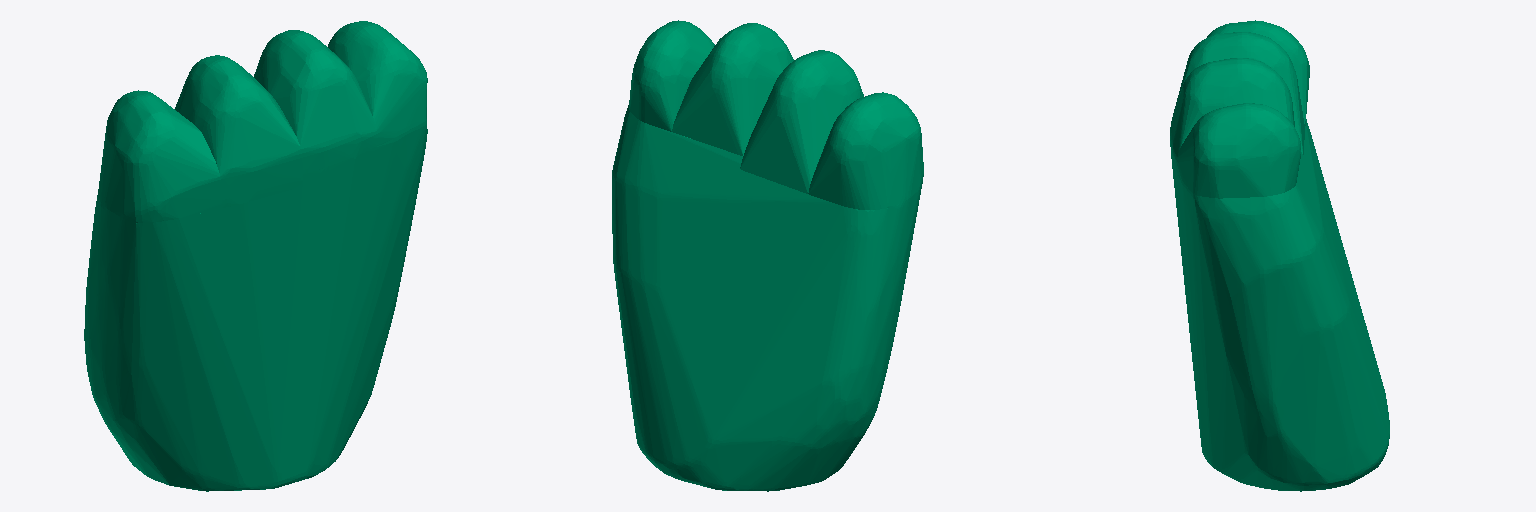
robot.urdf — ability_hand:
<robot name="ability_hand">
  <link name="base_link"/>
  <joint name="base_joint" type="fixed">
    <parent link="base_link"/>
    <child link="base"/>
    <origin xyz="0 0 0" rpy="0 0 0"/>
  </joint>
  <link name="base">
    <visual name="wrist_mesh">
      <origin rpy="0 0 0" xyz="0 0 0"/>
      <geometry>
        <mesh filename="meshes/visual/wristmesh.obj"/>
      </geometry>
    </visual>
    <collision>
      <origin xyz="0 0 0" rpy="0 0 0"/>
      <geometry>
        <mesh filename="meshes/collision/wristmesh_C.obj"/>
      </geometry>
    </collision>
    <inertial>  <!-- the mass and inertia here are NOT correct -->
      <mass value="0.200"/>
      <inertia ixx="978.26e-6" ixy="87.34e-6" ixz="322.99e-6" iyy="1244.78e-6" iyz="244.74e-6" izz="456.22e-6"/>
      <origin xyz="22.41911e-3 -0.15798201e-3 -0.01319866e-3" rpy="0 0 0"/>
    </inertial>
  </link>
  <joint name="wrist2thumb" type="fixed">
    <parent link="base"/>
    <child link="thumb_base"/>
    <origin xyz="24.0476665e-3 3.78124745e-3 32.32964923e-3" rpy="3.14148426 0.08848813 3.14036612"/>
  </joint>
  <link name="thumb_base">
    <inertial>
      <mass value="0.400"/>
      <inertia ixx="978.26e-6" ixy="87.34e-6" ixz="322.99e-6" iyy="1244.78e-6" iyz="244.74e-6" izz="456.22e-6"/>
      <origin xyz="22.41911e-3 -0.15798201e-3 -0.01319866e-3" rpy="0 0 0"/>
    </inertial>
    <visual name="palm_mesh">
      <origin rpy="0 0 0" xyz="0 0 0"/>
      <geometry>
        <mesh filename="meshes/visual/FB_palm_ref.obj"/>
      </geometry>
    </visual>
    <collision>                                  <!-- thumb_base -->
      <origin xyz="0 0 0" rpy="0 0 0"/>
      <geometry>
        <mesh filename="meshes/collision/FB_palm_ref.obj"/>
      </geometry>
    </collision>
  </link>
  <link name="index_L1">
    <inertial>
      <mass value="0.00635888"/>
      <inertia ixx="0.29766e-4" ixy="-0.06447133e-4" ixz="-0.00423315e-4" iyy="3.6947967e-4" iyz="0.00083028e-4" izz="3.8176336e-4"/>
      <origin xyz="22.41911e-3 -0.15798201e-3 -0.01319866e-3" rpy="0 0 0"/>
    </inertial>
    <visual name="index_mesh_1">
      <origin xyz="38.472723e-3 3.257695e-3 0.000000" rpy="0 0 0.084474"/>
      <geometry>
        <mesh filename="meshes/visual/idx-F1.obj"/>
      </geometry>
    </visual>
    <collision>                                  <!-- index_L1 -->
      <origin xyz="0.036 -0.00175 0" rpy="0 0 0"/>
      <geometry>
        <sphere radius="0.0085"/>
      </geometry>
    </collision>
    <collision>
      <origin xyz="0.019 -0.0045 0" rpy="0 0 0.0845"/>
      <geometry>
        <box size="0.028 0.012 0.016"/>
      </geometry>
    </collision>
    <collision>
      <origin xyz="-0.001 0 0.007" rpy="0 0 0.0845"/>
      <geometry>
        <box size="0.012 0.012 0.002"/>
      </geometry>
    </collision>
    <collision>
      <origin xyz="-0.001 0 -0.007" rpy="0 0 0.0845"/>
      <geometry>
        <box size="0.012 0.012 0.002"/>
      </geometry>
    </collision>
  </link>
  <link name="index_L2">
    <inertial>
      <mass value="0.00645"/>
      <inertia ixx="0.82671e-4" ixy="-1.08876e-4" ixz="-0.00037e-4" iyy="1.98028e-4" iyz="0.00081e-4" izz="2.64638e-4"/>
      <origin rpy="0 0 0" xyz="13.36818e-3 -8.75392e-3 -0.02886e-3"/>
    </inertial>
    <visual name="index_mesh_2">
      <origin rpy="0 0 0" xyz="9.1241e-3 0 0"/>
      <geometry>
        <mesh filename="meshes/visual/idx-F2.obj"/>
      </geometry>
    </visual>
    <collision>                            <!-- index_L2 -->
      <origin xyz="0 0 0" rpy="0 0 0"/>
      <geometry>
        <mesh filename="meshes/collision/idx-F2_C.obj"/>
      </geometry>
    </collision>
    <collision>
      <origin xyz="0.03 -0.016 0" rpy="0 0 0"/>
      <geometry>
        <sphere radius="0.007"/>
      </geometry>
    </collision>
  </link>
  <joint name="index_q1" type="revolute">
    <parent link="thumb_base"/>
    <child link="index_L1"/>
    <origin xyz="-9.49e-3 -13.04e-3 -62.95e-3" rpy="-1.982050 1.284473 -2.090591"/>
    <axis xyz="0 0 1"/>
    <limit lower="0" upper="2.0943951" effort="6.0" velocity="8.0677777442"/>    <!-- angles in rad, efforts in N-m, velocity in rad/s -->
    <dynamics damping="0.001" friction="0.001"/>  <!-- Friction coefficient is not from quantitative measurement -->
  </joint>
  <joint name="index_q2" type="revolute">
    <parent link="index_L1"/>
    <child link="index_L2"/>
    <origin xyz="38.472723e-3 3.257695e-3 0.000000e-3" rpy="0 0 0.084474"/>
    <axis xyz="0 0 1"/>
    <limit lower="0.0" upper="2.6586" effort="6.0" velocity="8.0677777442"/>    <!-- angles in rad, efforts in N-m, velocity in rad/s -->
    <dynamics damping="0.001" friction="0.001"/>  <!-- Friction coefficient is not from quantitative measurement -->
    <mimic joint="index_q1" multiplier="1.05851325" offset="0.72349796"/>
  </joint>
  <link name="index_anchor"/>
  <joint name="idx_anchor" type="fixed">
    <parent link="index_L2"/>
    <child link="index_anchor"/>
    <origin rpy="0 0 0" xyz="31.5541e-3  -10.44e-3 0.14e-3"/>
  </joint>
  <link name="middle_L1">
    <inertial>
      <mass value="0.00635888"/>
      <inertia ixx="0.29766e-4" ixy="-0.06447133e-4" ixz="-0.00423315e-4" iyy="3.6947967e-4" iyz="0.00083028e-4" izz="3.8176336e-4"/>
      <origin xyz="22.41911e-3 -0.15798201e-3 -0.01319866e-3" rpy="0 0 0"/>
    </inertial>
    <visual name="middle_mesh_1">
      <origin xyz="38.472723e-3 3.257695e-3 0.000000" rpy="0 0 0.084474"/>
      <geometry>
        <mesh filename="meshes/visual/idx-F1.obj"/>
      </geometry>
    </visual>
    <collision>                                  <!-- middle_L1 -->
      <origin xyz="0.036 -0.00175 0" rpy="0 0 0"/>
      <geometry>
        <sphere radius="0.0085"/>
      </geometry>
    </collision>
    <collision>
      <origin xyz="0.019 -0.0045 0" rpy="0 0 0.0845"/>
      <geometry>
        <box size="0.028 0.012 0.016"/>
      </geometry>
    </collision>
    <collision>
      <origin xyz="0.018 0.006 0" rpy="0 0 0.0845"/>
      <geometry>
        <box size="0.02 0.01 0.016"/>
      </geometry>
    </collision>
    <collision>
      <origin xyz="-0.001 0 0.007" rpy="0 0 0.0845"/>
      <geometry>
        <box size="0.012 0.012 0.002"/>
      </geometry>
    </collision>
    <collision>
      <origin xyz="-0.001 0 -0.007" rpy="0 0 0.0845"/>
      <geometry>
        <box size="0.012 0.012 0.002"/>
      </geometry>
    </collision>
  </link>
  <link name="middle_L2">
    <inertial>
      <mass value="0.00645"/>
      <inertia ixx="0.82671e-4" ixy="-1.08876e-4" ixz="-0.00037e-4" iyy="1.98028e-4" iyz="0.00081e-4" izz="2.64638e-4"/>
      <origin rpy="0 0 0" xyz="13.36818e-3 -8.75392e-3 -0.02886e-3"/>
    </inertial>
    <visual name="middle_mesh_2">
      <origin rpy="0 0 0" xyz="9.1241e-3 0 0"/>
      <geometry>
        <mesh filename="meshes/visual/idx-F2.obj"/>
      </geometry>
    </visual>
    <collision>                            <!-- middle_L2 -->
      <origin xyz="0 0 0" rpy="0 0 0"/>
      <geometry>
        <mesh filename="meshes/collision/idx-F2_C.obj"/>
      </geometry>
    </collision>
    <collision>
      <origin xyz="0.03 -0.016 0" rpy="0 0 0"/>
      <geometry>
        <sphere radius="0.007"/>
      </geometry>
    </collision>
  </link>
  <joint name="middle_q1" type="revolute">
    <parent link="thumb_base"/>
    <child link="middle_L1"/>
    <origin xyz="9.653191e-3 -15.310271e-3 -67.853949e-3" rpy="-1.860531 1.308458 -1.896217"/>
    <limit lower="0" upper="2.0943951" effort="6.0" velocity="8.0677777442"/>    <!-- angles in rad, efforts in N-m, velocity in rad/s -->
    <dynamics damping="0.001" friction="0.001"/>  <!-- Friction coefficient is not from quantitative measurement -->
    <axis xyz="0 0 1"/>
  </joint>
  <joint name="middle_q2" type="revolute">
    <parent link="middle_L1"/>
    <child link="middle_L2"/>
    <origin xyz="38.472723e-3 3.257695e-3 0.000000" rpy="0 0 0.084474"/>
    <axis xyz="0 0 1"/>
    <limit lower="0.0" upper="2.6586" effort="6.0" velocity="8.0677777442"/>    <!-- angles in rad, efforts in N-m, velocity in rad/s -->
    <dynamics damping="0.001" friction="0.001"/>  <!-- Friction coefficient is not from quantitative measurement -->
    <mimic joint="middle_q1" multiplier="1.05851325" offset="0.72349796"/>
  </joint>
  <link name="middle_anchor"/>
  <joint name="mid_anchor" type="fixed">
    <parent link="middle_L2"/>
    <child link="middle_anchor"/>
    <origin rpy="0 0 0" xyz="31.5541e-3  -10.44e-3 0.14e-3"/>
  </joint>
  <link name="ring_L1">
    <inertial>
      <mass value="0.00635888"/>
      <inertia ixx="0.29766e-4" ixy="-0.06447133e-4" ixz="-0.00423315e-4" iyy="3.6947967e-4" iyz="0.00083028e-4" izz="3.8176336e-4"/>
      <origin xyz="22.41911e-3 -0.15798201e-3 -0.01319866e-3" rpy="0 0 0"/>
    </inertial>
    <visual name="ring_mesh_1">
      <origin xyz="38.472723e-3 3.257695e-3 0.000000" rpy="0 0 0.084474"/>
      <geometry>
        <mesh filename="meshes/visual/idx-F1.obj"/>
      </geometry>
    </visual>
    <collision>                                  <!-- ring_L1 -->
      <origin xyz="0.036 -0.00175 0" rpy="0 0 0"/>
      <geometry>
        <sphere radius="0.0085"/>
      </geometry>
    </collision>
    <collision>
      <origin xyz="0.019 -0.0045 0" rpy="0 0 0.0845"/>
      <geometry>
        <box size="0.028 0.012 0.016"/>
      </geometry>
    </collision>
    <collision>
      <origin xyz="0.018 0.006 0" rpy="0 0 0.0845"/>
      <geometry>
        <box size="0.02 0.01 0.016"/>
      </geometry>
    </collision>
    <collision>
      <origin xyz="-0.001 0 0.007" rpy="0 0 0.0845"/>
      <geometry>
        <box size="0.012 0.012 0.002"/>
      </geometry>
    </collision>
    <collision>
      <origin xyz="-0.001 0 -0.007" rpy="0 0 0.0845"/>
      <geometry>
        <box size="0.012 0.012 0.002"/>
      </geometry>
    </collision>
  </link>
  <link name="ring_L2">
    <inertial>
      <mass value="0.00645"/>
      <inertia ixx="0.82671e-4" ixy="-1.08876e-4" ixz="-0.00037e-4" iyy="1.98028e-4" iyz="0.00081e-4" izz="2.64638e-4"/>
      <origin rpy="0 0 0" xyz="13.36818e-3 -8.75392e-3 -0.02886e-3"/>
    </inertial>
    <visual name="ring_mesh_2">
      <origin rpy="0 0 0" xyz="9.1241e-3 0 0"/>
      <geometry>
        <mesh filename="meshes/visual/idx-F2.obj"/>
      </geometry>
    </visual>
    <collision>                            <!-- ring_L2 -->
      <origin xyz="0 0 0" rpy="0 0 0"/>
      <geometry>
        <mesh filename="meshes/collision/idx-F2_C.obj"/>
      </geometry>
    </collision>
    <collision>
      <origin xyz="0.03 -0.016 0" rpy="0 0 0"/>
      <geometry>
        <sphere radius="0.007"/>
      </geometry>
    </collision>
  </link>
  <joint name="ring_q1" type="revolute">
    <parent link="thumb_base"/>
    <child link="ring_L1"/>
    <origin xyz="29.954260e-3 -14.212492e-3 -67.286105e-3" rpy="-1.716598 1.321452 -1.675862"/>
    <limit lower="0" upper="2.0943951" effort="6.0" velocity="8.0677777442"/>    <!-- angles in rad, efforts in N-m, velocity in rad/s -->
    <dynamics damping="0.001" friction="0.001"/>  <!-- Friction coefficient is not from quantitative measurement -->
    <axis xyz="0 0 1"/>
  </joint>
  <joint name="ring_q2" type="revolute">
    <parent link="ring_L1"/>
    <child link="ring_L2"/>
    <origin xyz="38.472723e-3 3.257695e-3 0.000000" rpy="0 0 0.084474"/>
    <axis xyz="0 0 1"/>
    <limit lower="0.0" upper="2.6586" effort="6.0" velocity="8.0677777442"/>    <!-- angles in rad, efforts in N-m, velocity in rad/s -->
    <dynamics damping="0.001" friction="0.001"/>  <!-- Friction coefficient is not from quantitative measurement -->
    <mimic joint="ring_q1" multiplier="1.05851325" offset="0.72349796"/>
  </joint>
  <link name="ring_anchor"/>
  <joint name="rng_anchor" type="fixed">
    <parent link="ring_L2"/>
    <child link="ring_anchor"/>
    <origin rpy="0 0 0" xyz="31.5541e-3  -10.44e-3 0.14e-3"/>
  </joint>
  <link name="pinky_L1">
    <inertial>
      <mass value="0.00635888"/>
      <inertia ixx="0.29766e-4" ixy="-0.06447133e-4" ixz="-0.00423315e-4" iyy="3.6947967e-4" iyz="0.00083028e-4" izz="3.8176336e-4"/>
      <origin xyz="22.41911e-3 -0.15798201e-3 -0.01319866e-3" rpy="0 0 0"/>
    </inertial>
    <visual name="pinky_mesh_1">
      <origin xyz="38.472723e-3 3.257695e-3 0.000000" rpy="0 0 0.084474"/>
      <geometry>
        <mesh filename="meshes/visual/idx-F1.obj"/>
      </geometry>
    </visual>
    <collision>                                  <!-- pinky_L1 -->
      <origin xyz="0.036 -0.00175 0" rpy="0 0 0"/>
      <geometry>
        <sphere radius="0.0085"/>
      </geometry>
    </collision>
    <collision>
      <origin xyz="0.019 -0.0045 0" rpy="0 0 0.0845"/>
      <geometry>
        <box size="0.028 0.012 0.016"/>
      </geometry>
    </collision>
    <collision>
      <origin xyz="0.018 0.006 0" rpy="0 0 0.0845"/>
      <geometry>
        <box size="0.02 0.01 0.016"/>
      </geometry>
    </collision>
    <collision>
      <origin xyz="-0.001 0 0.007" rpy="0 0 0.0845"/>
      <geometry>
        <box size="0.012 0.012 0.002"/>
      </geometry>
    </collision>
    <collision>
      <origin xyz="-0.001 0 -0.007" rpy="0 0 0.0845"/>
      <geometry>
        <box size="0.012 0.012 0.002"/>
      </geometry>
    </collision>
  </link>
  <link name="pinky_L2">
    <inertial>
      <mass value="0.00645"/>
      <inertia ixx="0.82671e-4" ixy="-1.08876e-4" ixz="-0.00037e-4" iyy="1.98028e-4" iyz="0.00081e-4" izz="2.64638e-4"/>
      <origin rpy="0 0 0" xyz="13.36818e-3 -8.75392e-3 -0.02886e-3"/>
    </inertial>
    <visual name="pinky_mesh_2">
      <origin rpy="0 0 0" xyz="9.1241e-3 0 0"/>
      <geometry>
        <mesh filename="meshes/visual/idx-F2.obj"/>
      </geometry>
    </visual>
    <collision>                            <!-- pinky_L2 -->
      <origin xyz="0 0 0" rpy="0 0 0"/>
      <geometry>
        <mesh filename="meshes/collision/idx-F2_C.obj"/>
      </geometry>
    </collision>
    <collision>
      <origin xyz="0.03 -0.016 0" rpy="0 0 0"/>
      <geometry>
        <sphere radius="0.007"/>
      </geometry>
    </collision>
  </link>
  <joint name="pinky_q1" type="revolute">
    <parent link="thumb_base"/>
    <child link="pinky_L1"/>
    <origin xyz="49.521293e-3 -11.004583e-3 -63.029065e-3" rpy="-1.765110 1.322220 -1.658383"/>
    <limit lower="0" upper="2.0943951" effort="6.0" velocity="8.0677777442"/>    <!-- angles in rad, efforts in N-m, velocity in rad/s -->
    <dynamics damping="0.001" friction="0.001"/>  <!-- Friction coefficient is not from quantitative measurement -->
    <axis xyz="0 0 1"/>
  </joint>
  <joint name="pinky_q2" type="revolute">
    <parent link="pinky_L1"/>
    <child link="pinky_L2"/>
    <origin xyz="38.472723e-3 3.257695e-3 0.000000" rpy="0 0 0.084474"/>
    <limit lower="0.0" upper="2.6586" effort="6.0" velocity="8.0677777442"/>    <!-- angles in rad, efforts in N-m, velocity in rad/s -->
    <dynamics damping="0.001" friction="0.001"/>  <!-- Friction coefficient is not from quantitative measurement -->
    <axis xyz="0 0 1"/>
    <mimic joint="pinky_q1" multiplier="1.05851325" offset="0.72349796"/>
  </joint>
  <link name="pinky_anchor"/>
  <joint name="pnky_anchor" type="fixed">
    <parent link="pinky_L2"/>
    <child link="pinky_anchor"/>
    <origin rpy="0 0 0" xyz="31.5541e-3  -10.44e-3 0.14e-3"/>
  </joint>
  <link name="thumb_L1">
    <inertial>
      <mass value="0.00268342"/>
      <inertia ixx="0.16931e-4" ixy="-0.076214e-4" ixz="-0.16959148e-4" iyy="0.77769934e-4" iyz="0.0156622e-4" izz="0.7249122e-4"/>
      <origin rpy="0 0 0" xyz="14.606e-3 -1.890854e-3 -3.1155356e-3"/>
    </inertial>
    <visual name="thumb_mesh_1">
      <origin xyz="27.8283501e-3 0 -14.7507000e-3" rpy="4.450589592585541 0 0"/>
      <geometry>
        <mesh filename="meshes/visual/thumb-F1.obj"/>
      </geometry>
    </visual>
    <collision>                            <!-- thumb_L1 -->
      <origin xyz="27.8283501e-3 0 -14.7507000e-3" rpy="4.450589592585541 0 0"/>
      <geometry>
        <mesh filename="meshes/collision/thumb-F1_C.obj"/>
      </geometry>
    </collision>
  </link>
  <link name="thumb_L2">
    <inertial>
      <mass value="0.0055"/>
      <inertia ixx="4.4789082e-4" ixy="4.4789082e-4" ixz="-0.62144934e-4" iyy="15.600996e-4" iyz="-0.07466143e-4" izz="17.908554e-4"/>
      <origin rpy="0 0 0" xyz="30.020522e-3 5.59476e-3 -4.1504356e-3"/>
    </inertial>
    <visual name="thumb_mesh_2">
      <origin xyz="65.18669e-3 23.34021e-3 -3.93483e-3" rpy="3.141592 0 0.343830"/>
      <geometry>
        <mesh filename="meshes/visual/thumb-F2.obj"/>
      </geometry>
    </visual>
    <collision>                            <!-- thumb_L2 -->
      <origin xyz="65.18669e-3 23.34021e-3 -3.93483e-3" rpy="3.141592 0 0.343830"/>
      <geometry>
        <mesh filename="meshes/collision/thumb-F2_C.obj"/>
      </geometry>
    </collision>
  </link>
  <joint name="thumb_q1" type="revolute">
    <parent link="thumb_base"/>
    <child link="thumb_L1"/>
    <origin xyz="0 0 0" rpy="0 0 3.330437"/>
    <axis xyz="0 0 1"/>
    <limit lower="-2.0943951" upper="0" effort="1.2" velocity="40.338888721"/>    <!-- angles in rad, efforts in N-m, velocity in rad/s -->
    <dynamics damping="0.001" friction="0.001"/>  <!-- Friction coefficient is not from quantitative measurement -->
  </joint>
  <joint name="thumb_q2" type="revolute">
    <parent link="thumb_L1"/>
    <child link="thumb_L2"/>
    <origin xyz="27.8283501e-3 0 -14.7507000e-3" rpy="4.450589592585541 0 0"/>
    <axis xyz="0 0 1"/>
    <limit lower="0" upper="2.0943951" effort="6.0" velocity="8.0677777442"/>    <!-- angles in rad, efforts in N-m, velocity in rad/s -->
    <dynamics damping="0.001" friction="0.001"/>  <!-- Friction coefficient is not from quantitative measurement -->
  </joint>
  <link name="thumb_anchor"/>
  <joint name="thmb_anchor" type="fixed">
    <parent link="thumb_L2"/>
    <child link="thumb_anchor"/>
    <origin rpy="0 0 0" xyz="52.0012259e-3  28.0086971e-3 -.884835778e-3"/>
  </joint>
</robot>

--- What the picture shows (computed from the rendered views, not written in the file) ---
The picture shows the robot from 3 angles, left to right: view 1: azimuth 30°, elevation 25°; view 2: azimuth 150°, elevation 25°; view 3: azimuth 270°, elevation 25°; orthographic projection.
Robot: ability_hand — 18 links, 17 joints (10 revolute, 7 fixed); root link base_link; default pose: all joints at 0.
Links seen in each view (by area): view 1: thumb_base; view 2: thumb_base; view 3: thumb_base.
Boxes of the visible links, box(x1,y1,x2,y2) form: thumb_base: box(84, 21, 427, 491); thumb_base: box(612, 20, 923, 491); thumb_base: box(1170, 20, 1389, 491).
Size in the robot's own frame: 0.083 by 0.0552 by 0.1119 metres.
Meshes: 6 distinct files referenced, 1 mesh visuals loaded (1 OBJ); not drawn: 11 (reference not matched to a file when rendering).